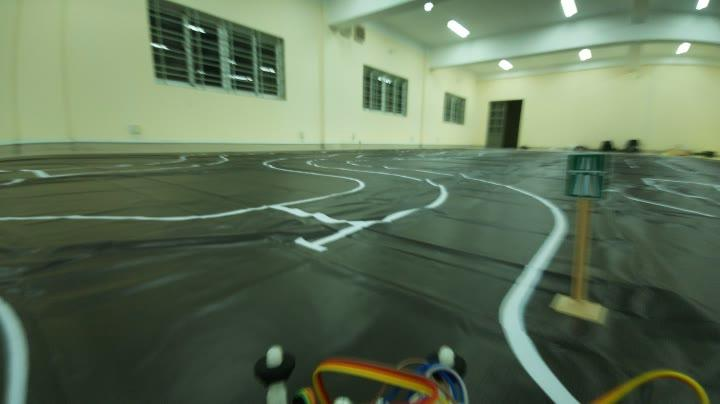highway_entry: (556, 142, 617, 204)
